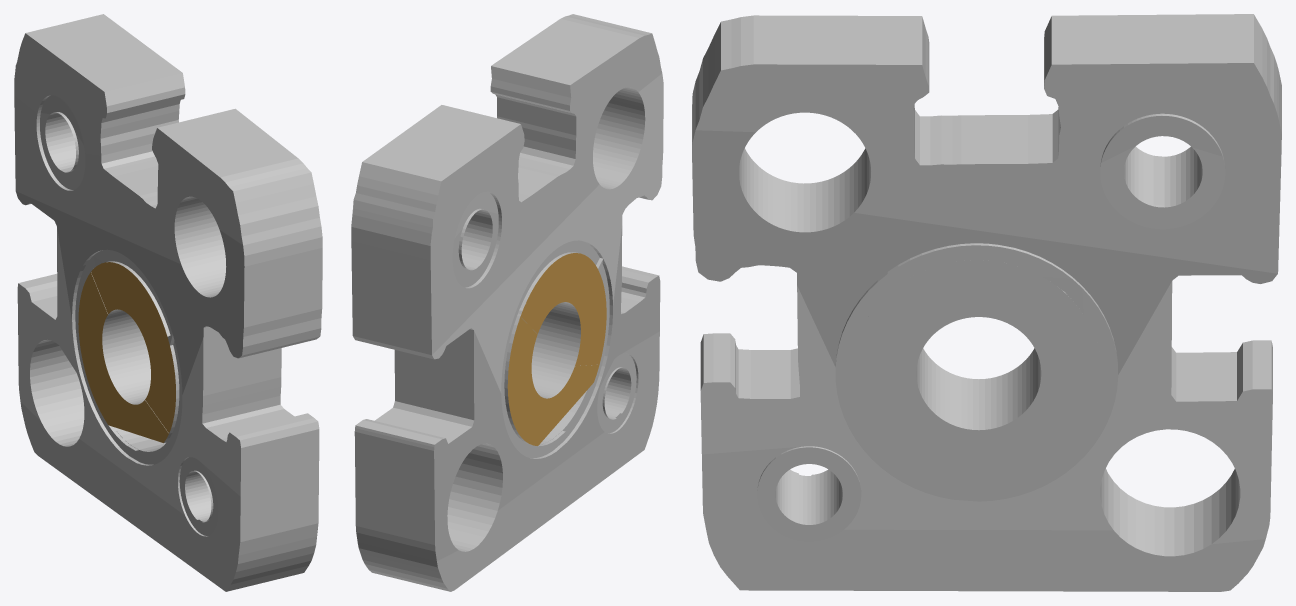
The model's file is Lagerdeckel.gltf.
3 renders of one model, left to right at view 1: azimuth 30°, elevation 25°; view 2: azimuth 150°, elevation 25°; view 3: azimuth 270°, elevation 25°, orthographic. The views are drawn at different scales.
Parts seen in each view (by area): view 1: Lagerdeckel; view 2: Lagerdeckel; view 3: Lagerdeckel.
Boxes of the visible parts, left/top/right/bottom form: Lagerdeckel: left=14, top=14, right=322, bottom=591; Lagerdeckel: left=351, top=14, right=663, bottom=591; Lagerdeckel: left=692, top=14, right=1281, bottom=591.
Bounding box in the file's own units: 0.4252 × 1.91 × 1.93.
